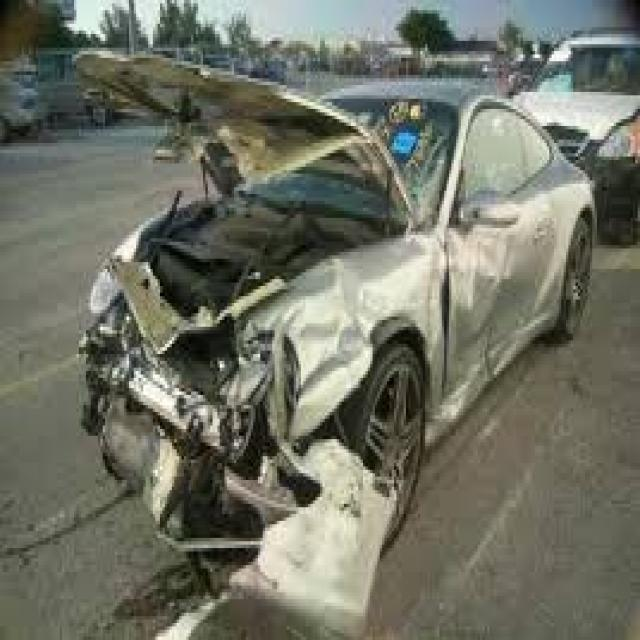severe: (62, 25, 510, 627)
